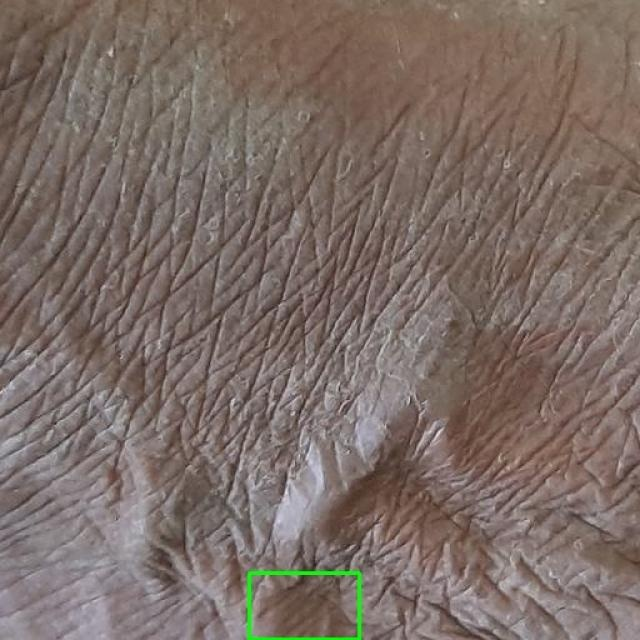Eczema: (249, 572, 359, 639)
